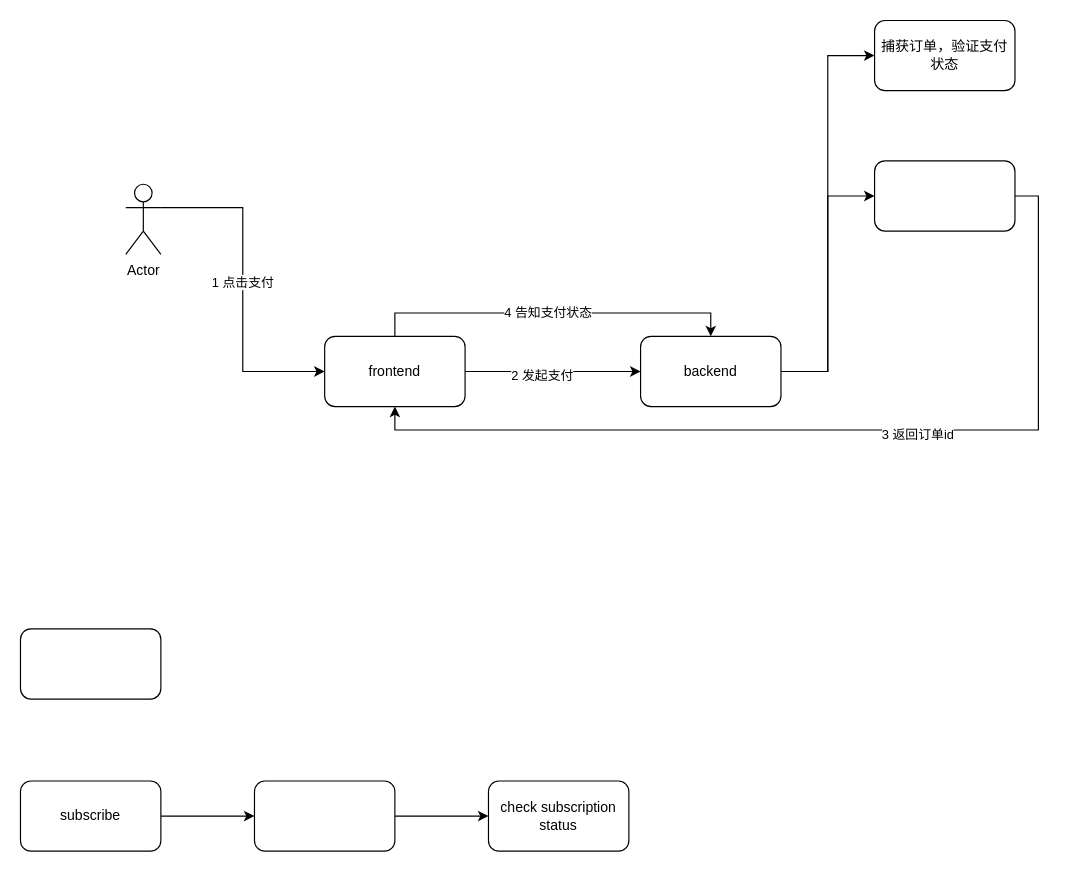
Image size: 1068x872. Some labels were removed from this diagram. The shapes that lost their labels are listed below. From the top down, each one's centre as x and y in pixels, then its label:
(x=944, y=195): 创建订单
(x=90, y=663): create plan
(x=324, y=815): webhook
